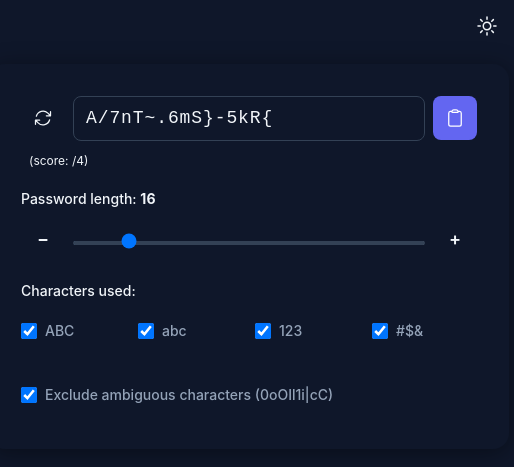
it: AC-05: Charset toggle changes pool and triggers regeneration › disabling symbols toggle produces a password without symbol characters
Act — disable symbols
Click the checkbox named "Symbols #$&". click: click(380, 330)
box: x1=372 y1=322 x2=388 y2=338
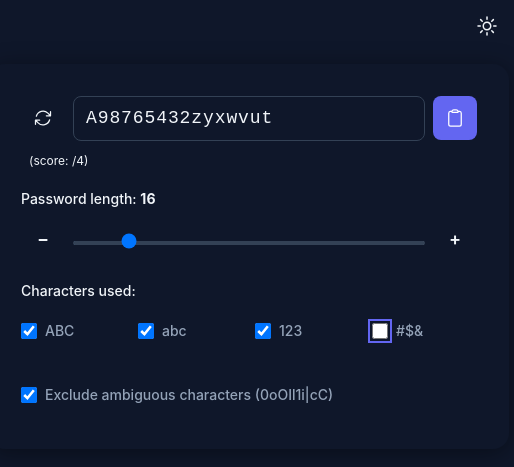
Now the checkbox named "Symbols #$&" is not checked, box x1=372 y1=322 x2=388 y2=338
Now the field named "password" is not empty, box x1=73 y1=96 x2=425 y2=140
